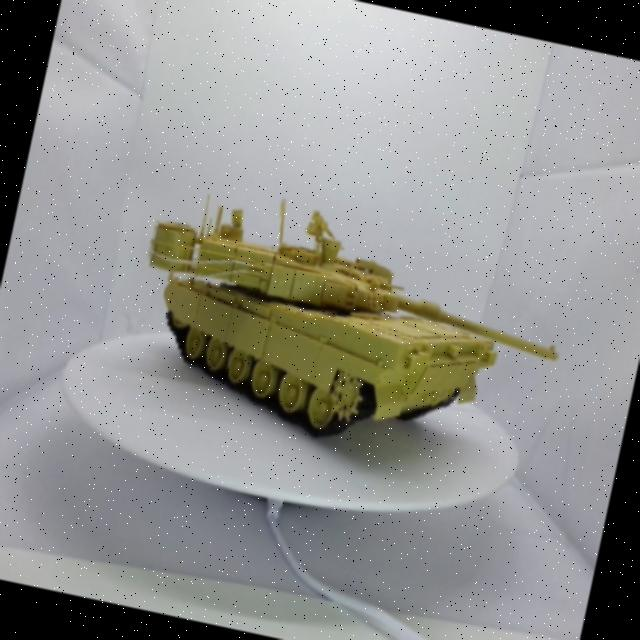korea tank: (112, 150, 593, 488)
